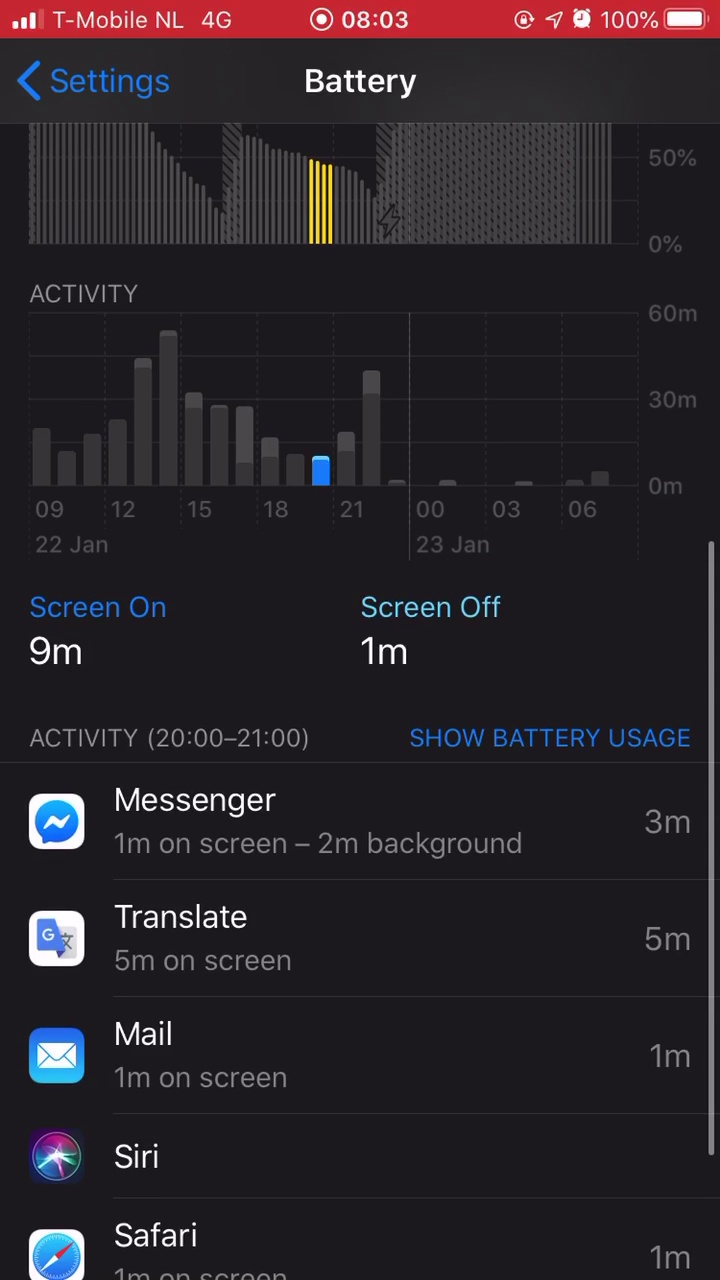activity: (20, 707, 332, 764)
app: (18, 767, 700, 869), (16, 879, 698, 981), (19, 993, 701, 1095), (19, 1102, 701, 1204), (21, 1100, 703, 1202)
